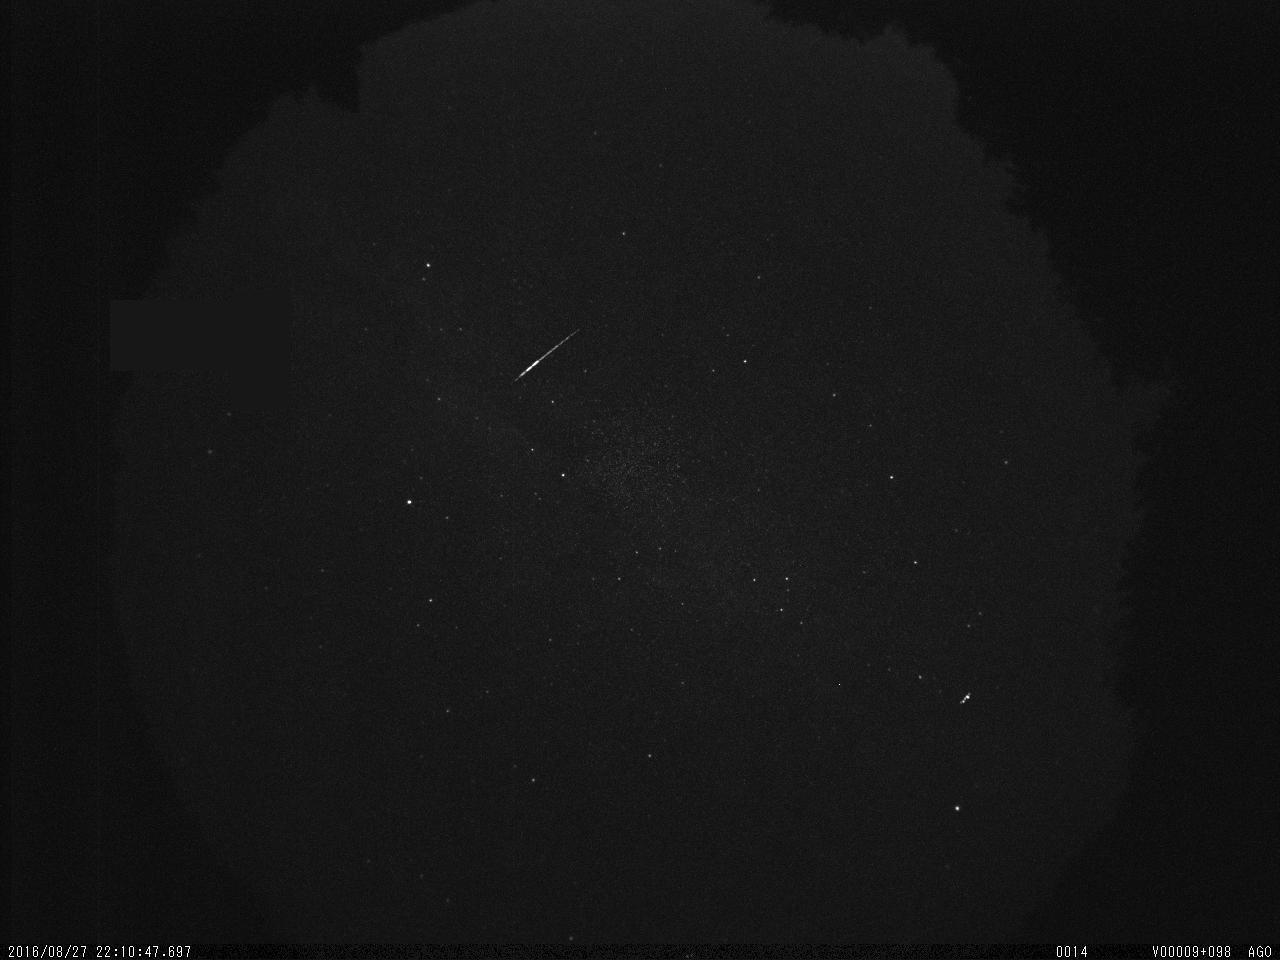Meteor: (510, 326, 586, 386)
